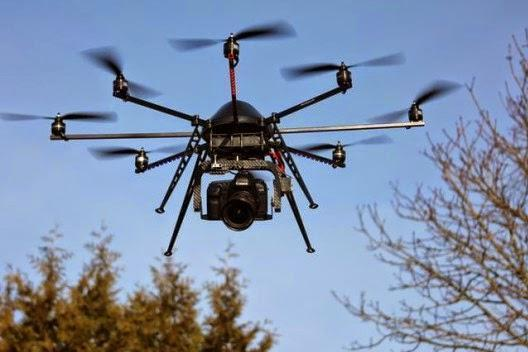UAV: (276, 12, 528, 352)
